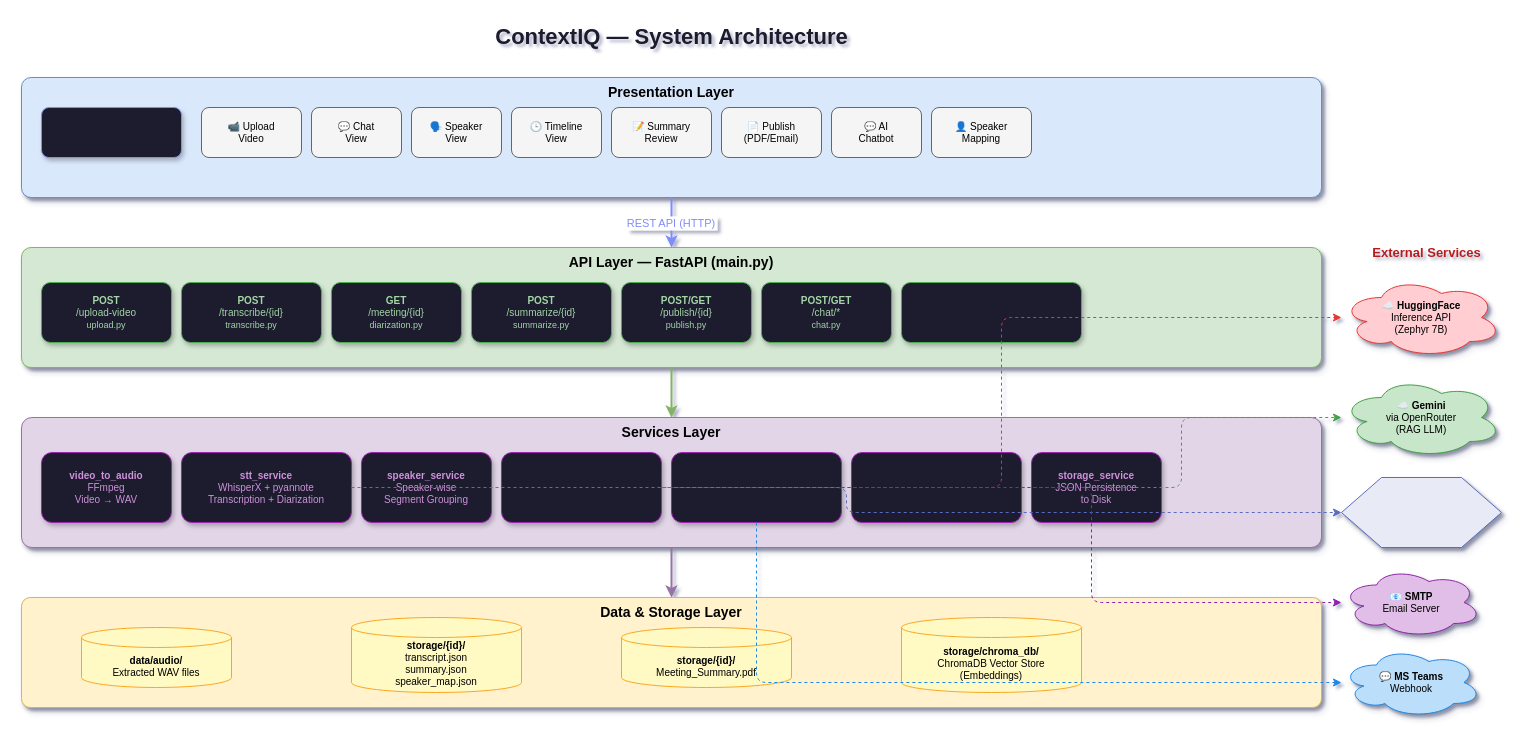
Image size: 1531x748. Some labels were removed from this diagram. Each missing label, with the centre of its shape:
"POST/GET /meeting/{id}/speaker-map speaker_map.py" goes at (x=992, y=314).
"publish_service PDF (fpdf2) + Email (SMTP) + Teams (Webhook)" goes at (x=757, y=489).
"rag_service LangChain + ChromaDB + Gemini (RAG Q&A)" goes at (x=937, y=489).
"Streamlit UI streamlit_app.py" goes at (x=112, y=133).
"summary_service Zephyr 7B (HuggingFace) EN + HI Summaries" goes at (x=582, y=489).
"⚡ NVIDIA GPU CUDA 12.8 (WhisperX accel)" goes at (x=1422, y=513).
